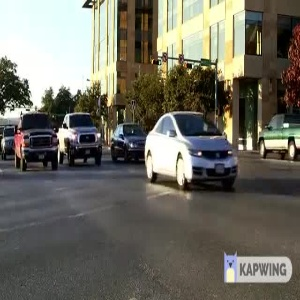car: (132, 105, 240, 185), (104, 120, 149, 163)
truck: (12, 109, 61, 172), (58, 110, 105, 169), (246, 107, 300, 157)
